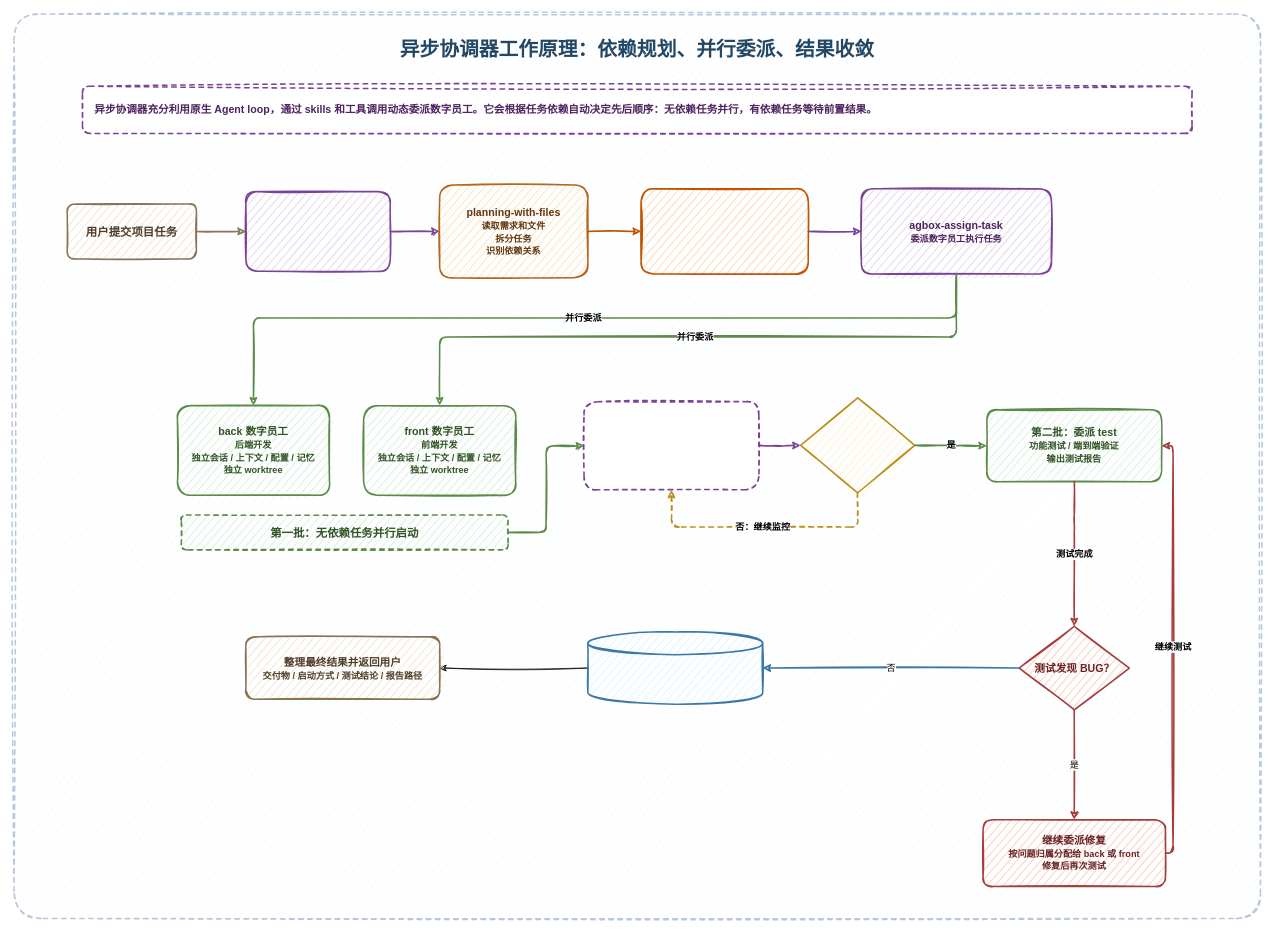
Some shapes in this 1274 by 932 pixel diagram are drawn without their labels. The centre of each missing label's shape, as x and y in pixels:
任务依赖图 back 与 front 无前置依赖 test 依赖 back + front: (x=724, y=231)
依赖满足？ back 和 front 都完成: (x=857, y=445)
全部完成后收敛 合并分支到 master 处理 worktrees / 冲突 / 清理: (x=675, y=668)
协调器监控进度 检查 back/front 是否完成 收集员工返回结果: (x=671, y=445)
异步协调器 原生 Agent loop 负责规划、委派、监控、总结: (x=318, y=231)
